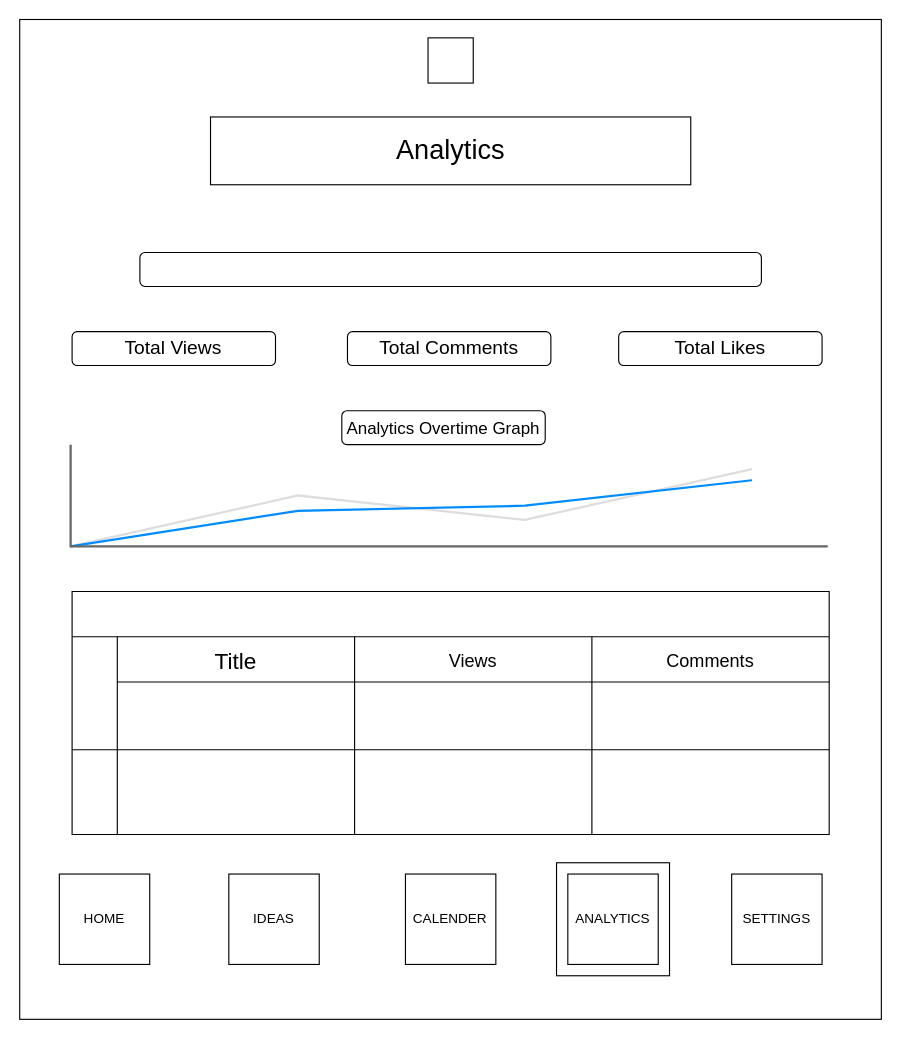
This 902x1040 diagram has some shape labels left out. The box of each missing label's shape, as (x1, y1, x2, y2) in pixels:
Logo: (427, 37, 473, 83)
Recent Content: (71, 590, 829, 835)
Scrollable list that will populate all or certain platform analytics: (139, 251, 761, 286)
